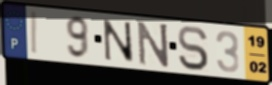3: (214, 29, 240, 74)
9: (64, 15, 90, 61)
I: (30, 10, 40, 57)
N: (136, 20, 172, 69), (101, 18, 136, 65)
S: (177, 25, 211, 73)
